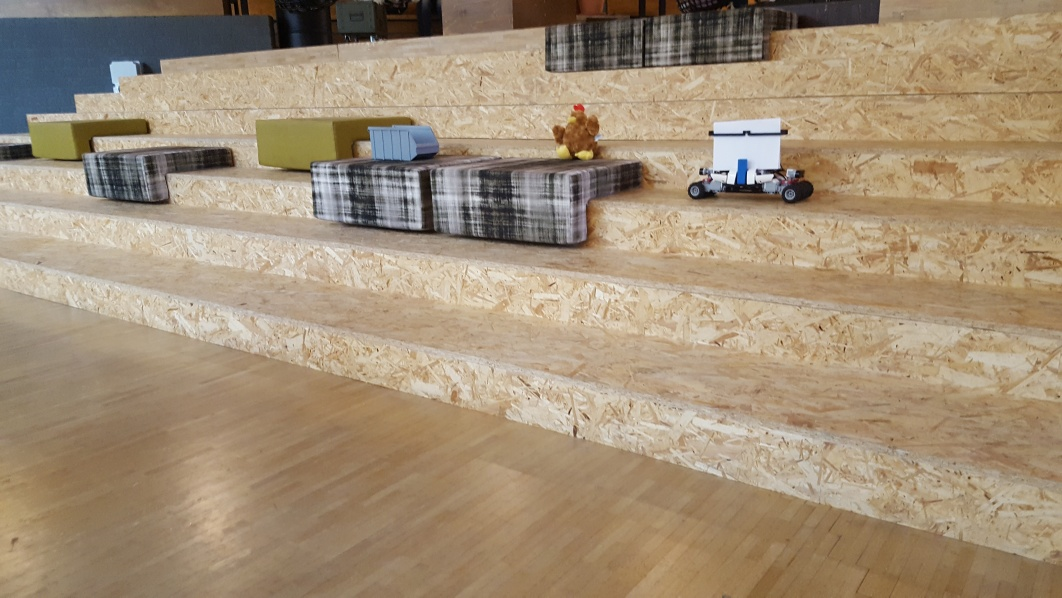car: (686, 117, 815, 204)
chicken: (552, 103, 604, 162)
tray: (366, 124, 440, 163)
